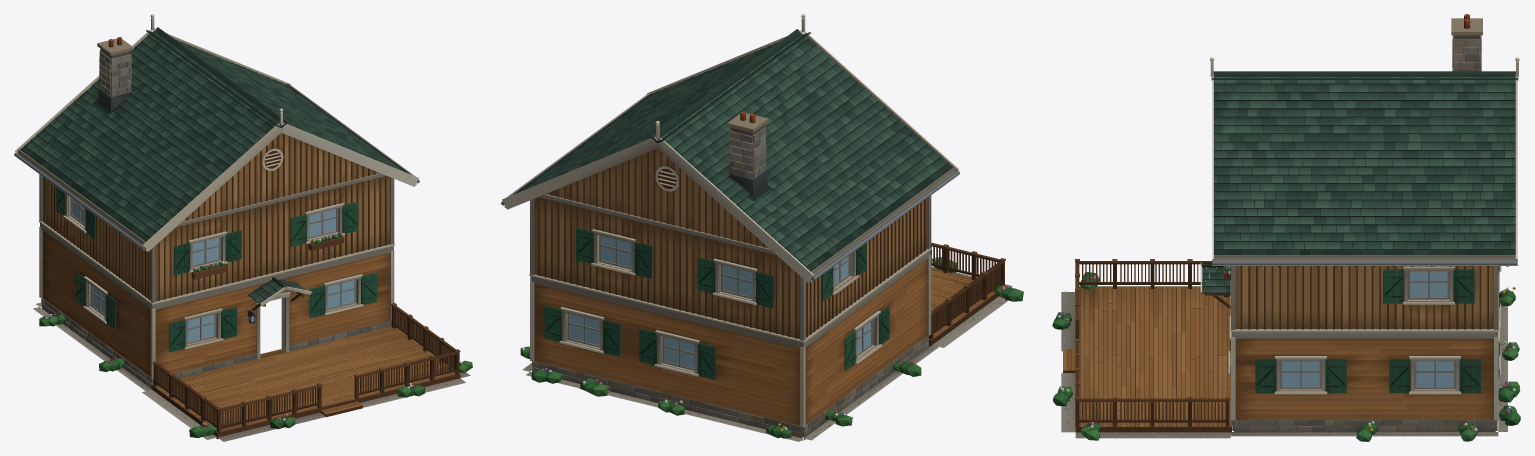
The model's file is cottage.glb.
The picture shows the model from 3 angles, left to right: view 1: azimuth 30°, elevation 25°; view 2: azimuth 150°, elevation 25°; view 3: azimuth 270°, elevation 25°; orthographic projection. The views are drawn at different scales.
Visible parts, largest first — view 1: C_toit, C_rdc, C_etage, C_terrasse, W_rdc, W_etage; view 2: C_toit, C_rdc, C_etage, C_terrasse, W_etage, W_rdc; view 3: C_toit, C_rdc, C_terrasse, C_etage, W_rdc, W_etage.
Part boxes in pixels (<box>): C_toit: <box>14,14,419,251</box>; C_rdc: <box>33,227,394,391</box>; C_etage: <box>39,174,394,309</box>; C_terrasse: <box>142,303,472,441</box>; W_rdc: <box>92,280,354,342</box>; W_etage: <box>72,198,335,265</box>; C_toit: <box>501,14,959,282</box>; C_rdc: <box>520,254,938,441</box>; C_etage: <box>529,195,931,348</box>; C_terrasse: <box>928,242,1023,347</box>; W_etage: <box>601,236,848,296</box>; W_rdc: <box>569,314,871,368</box>; C_toit: <box>1210,14,1519,266</box>; C_rdc: <box>1200,262,1520,441</box>; C_terrasse: <box>1052,259,1231,440</box>; C_etage: <box>1223,266,1501,338</box>; W_rdc: <box>1225,289,1453,387</box>; W_etage: <box>1410,271,1447,297</box>.
Size of the model in its own units: 12.24 by 10.86 by 14.67.
